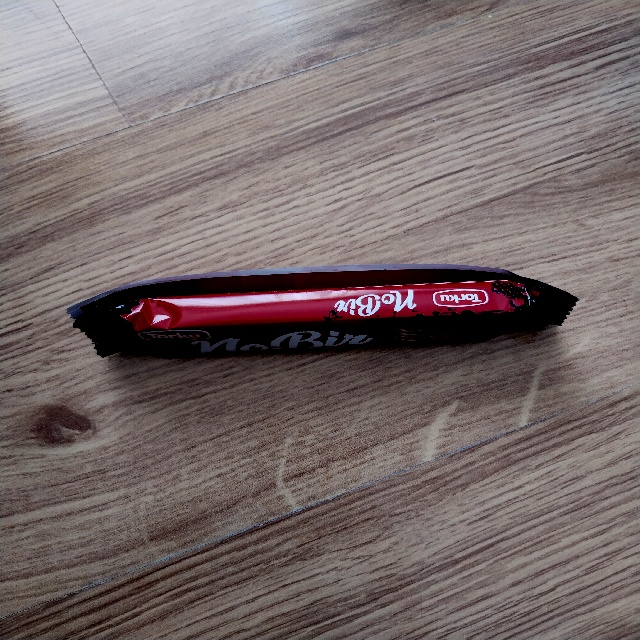torku_nobir_gofret: (62, 267, 582, 363)
